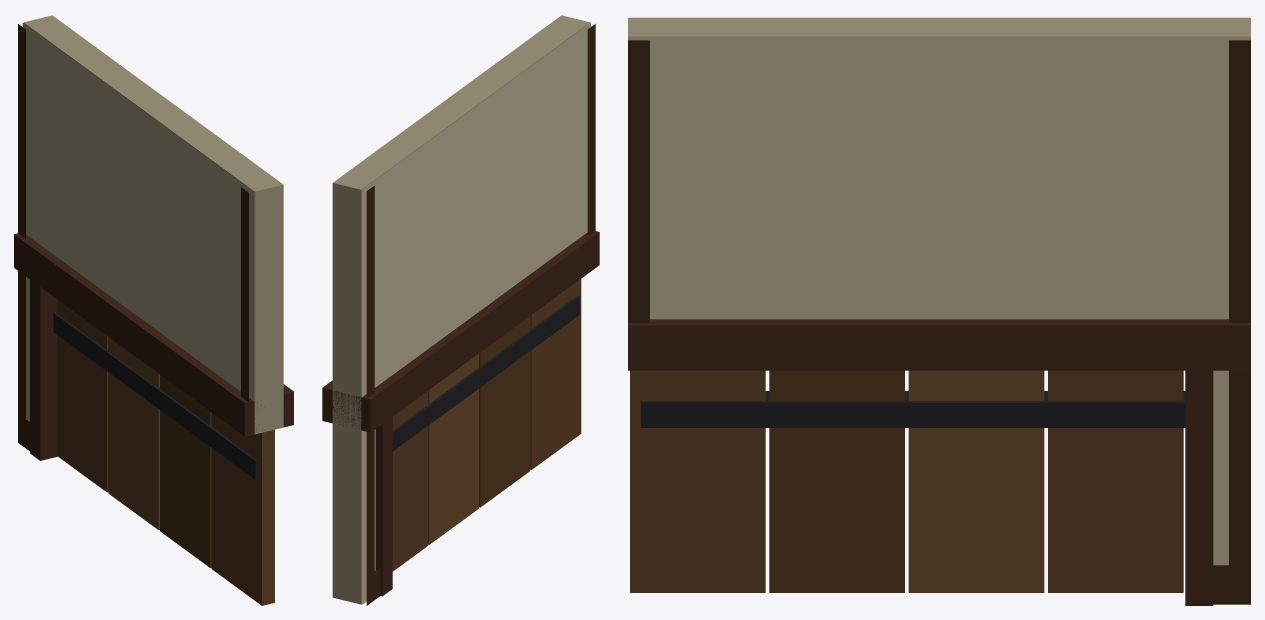
File: wall-halftimber-door-shut-high-l.glb
3 views of the same model, side by side, from view 1: azimuth 30°, elevation 25°; view 2: azimuth 150°, elevation 25°; view 3: azimuth 270°, elevation 25° (orthographic). The views are drawn at different scales.
Visible parts, largest first — view 1: wall-halftimber-door-shut-high-l; view 2: wall-halftimber-door-shut-high-l; view 3: wall-halftimber-door-shut-high-l.
Boxes of the visible parts, x1,y1,x2,y2 form: wall-halftimber-door-shut-high-l: [14, 15, 293, 605]; wall-halftimber-door-shut-high-l: [322, 15, 599, 605]; wall-halftimber-door-shut-high-l: [628, 17, 1250, 605].
Size of the model in its own units: 0.122 by 1 by 1.
